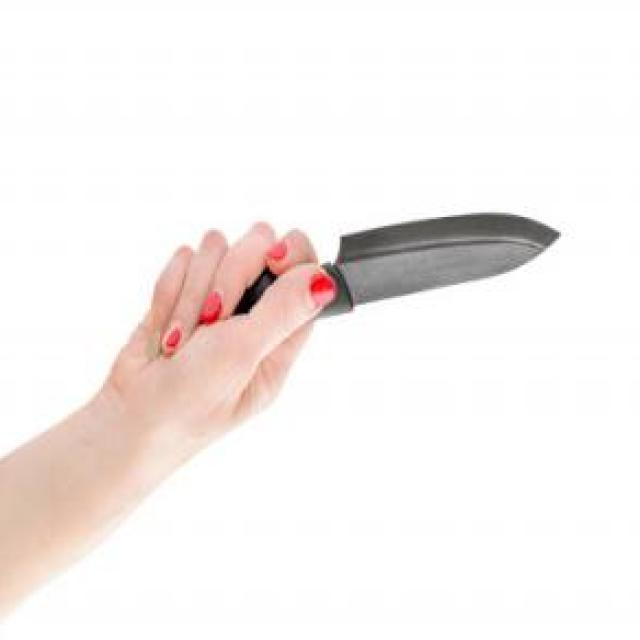knife: (143, 202, 570, 328)
